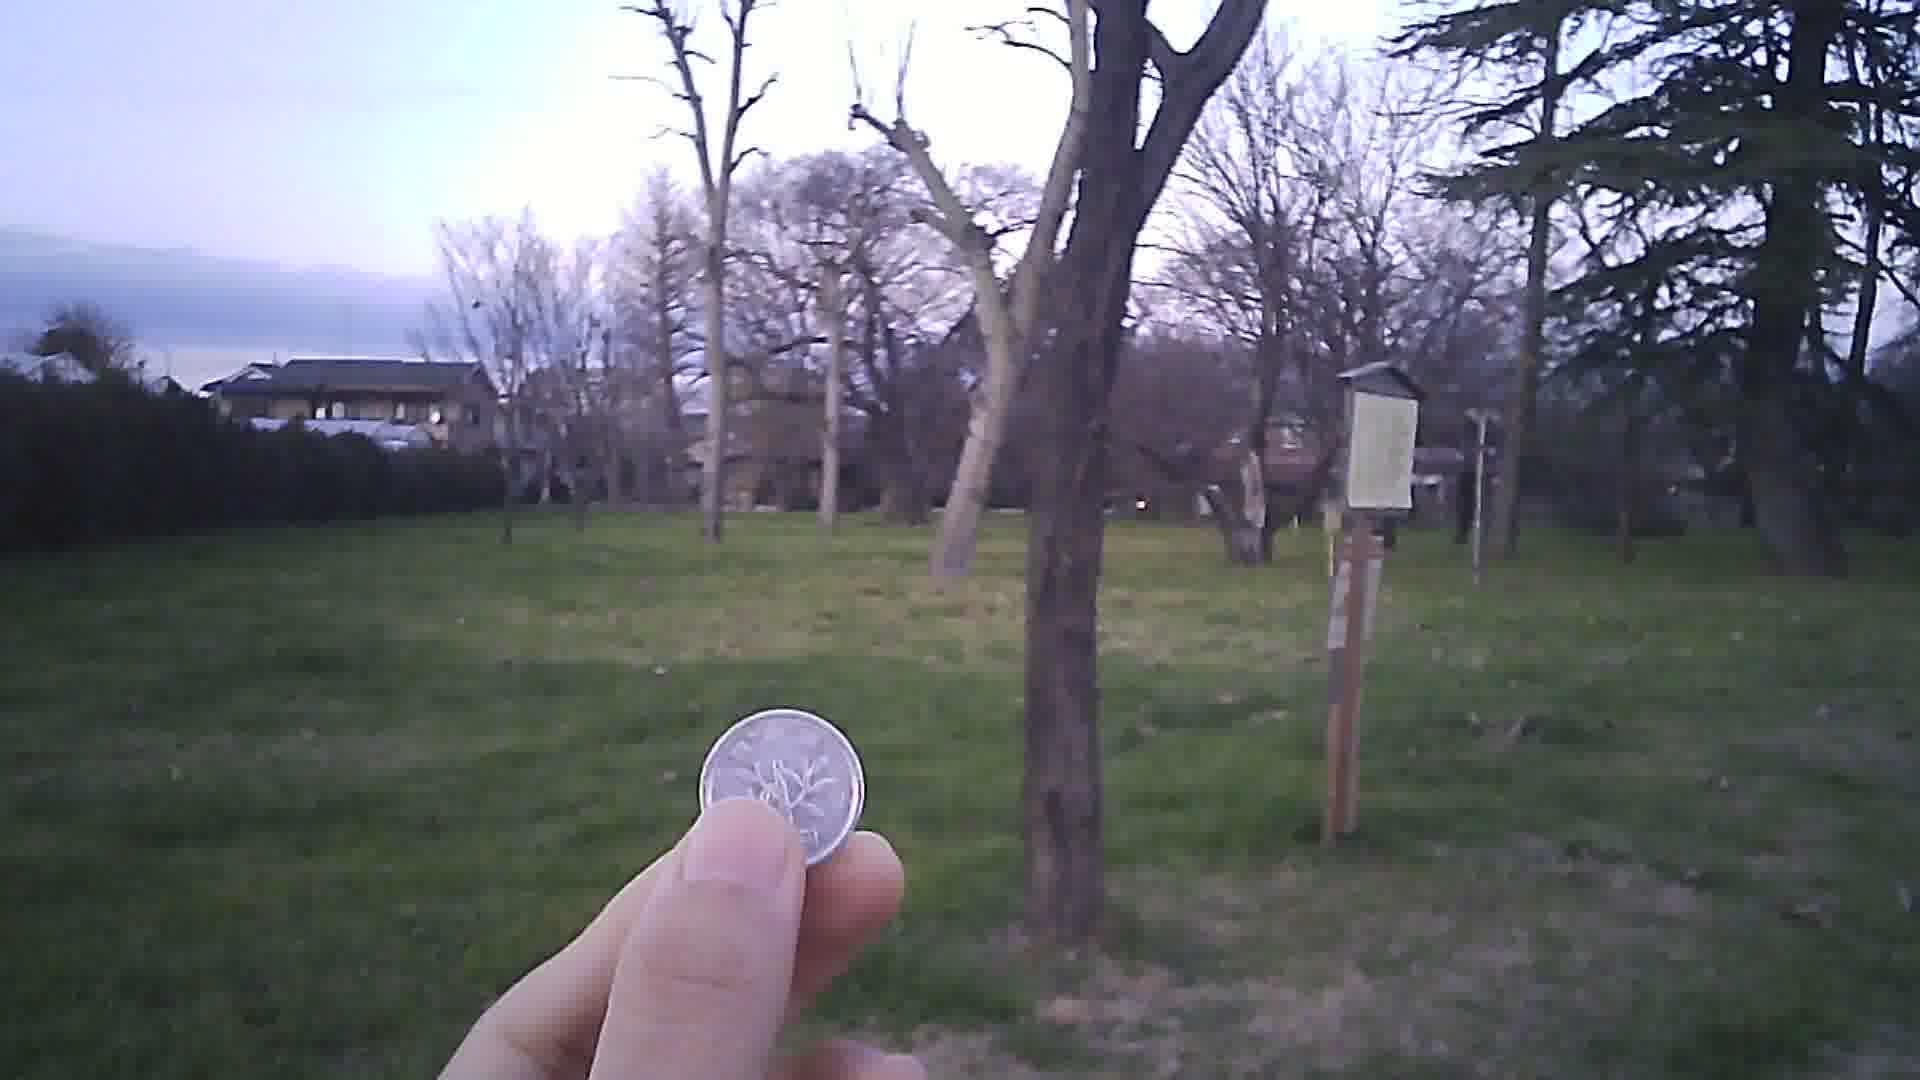1 Yen: (691, 698, 876, 869)
